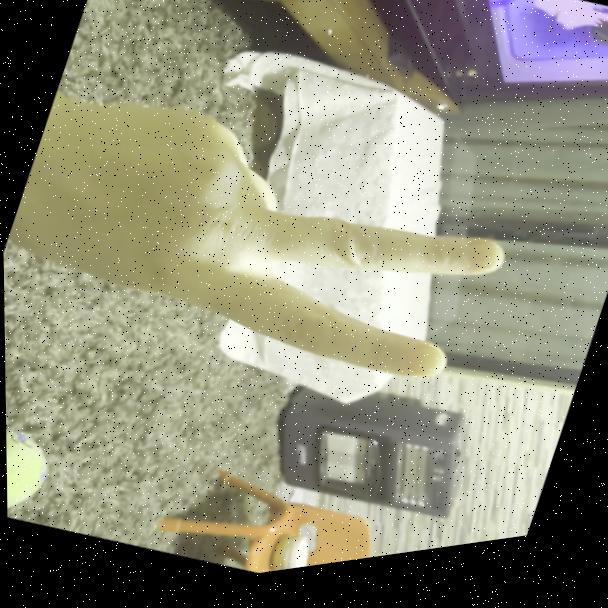two: (1, 38, 525, 461)
